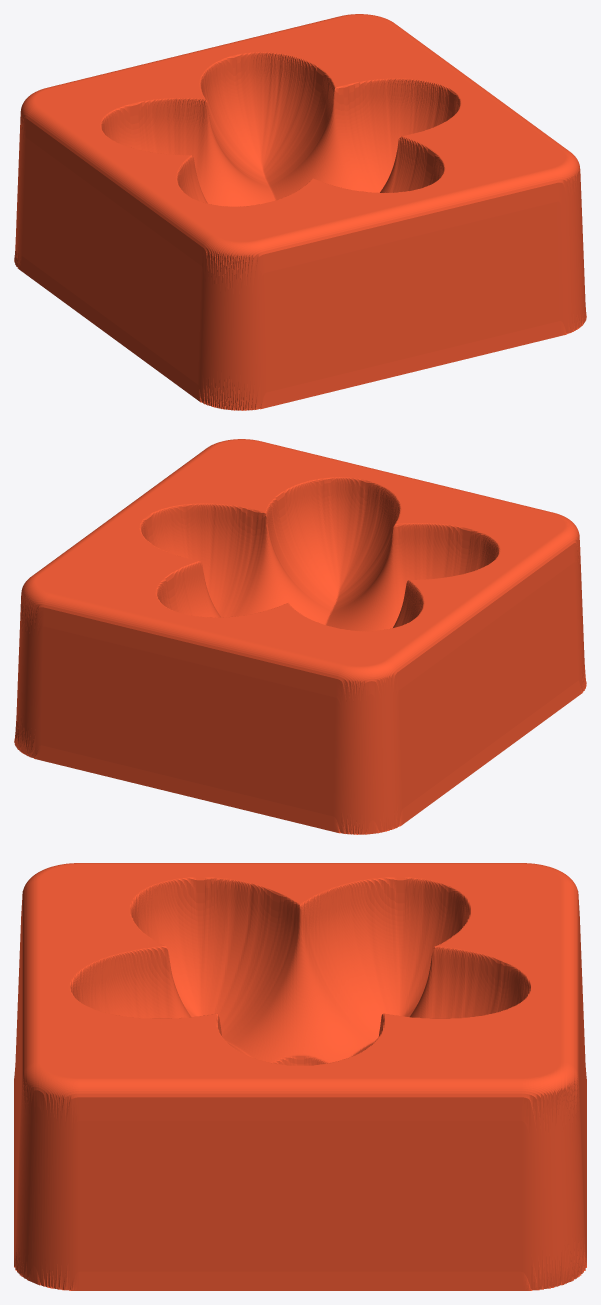
The model's file is mold.glb.
The picture shows the model from 3 angles, top to bottom: view 1: azimuth 30°, elevation 25°; view 2: azimuth 150°, elevation 25°; view 3: azimuth 270°, elevation 25°; orthographic projection. The views are drawn at different scales.
Parts seen in each view (by area): view 1: geometry_0; view 2: geometry_0; view 3: geometry_0.
Boxes of the visible parts, x1,y1,x2,y2 form: geometry_0: [14, 14, 586, 410]; geometry_0: [14, 439, 586, 834]; geometry_0: [14, 863, 586, 1290].
Bounding box in the file's own units: 0.0776 × 0.031 × 0.0798.
